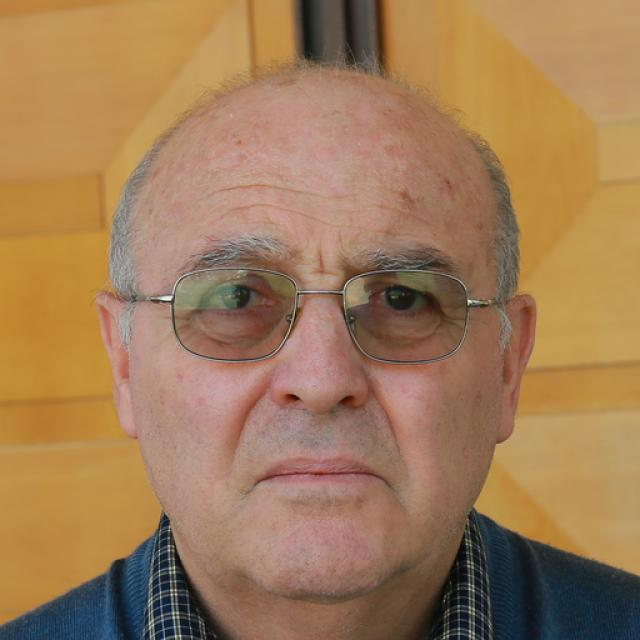Pigmentation: (385, 182, 435, 222)
